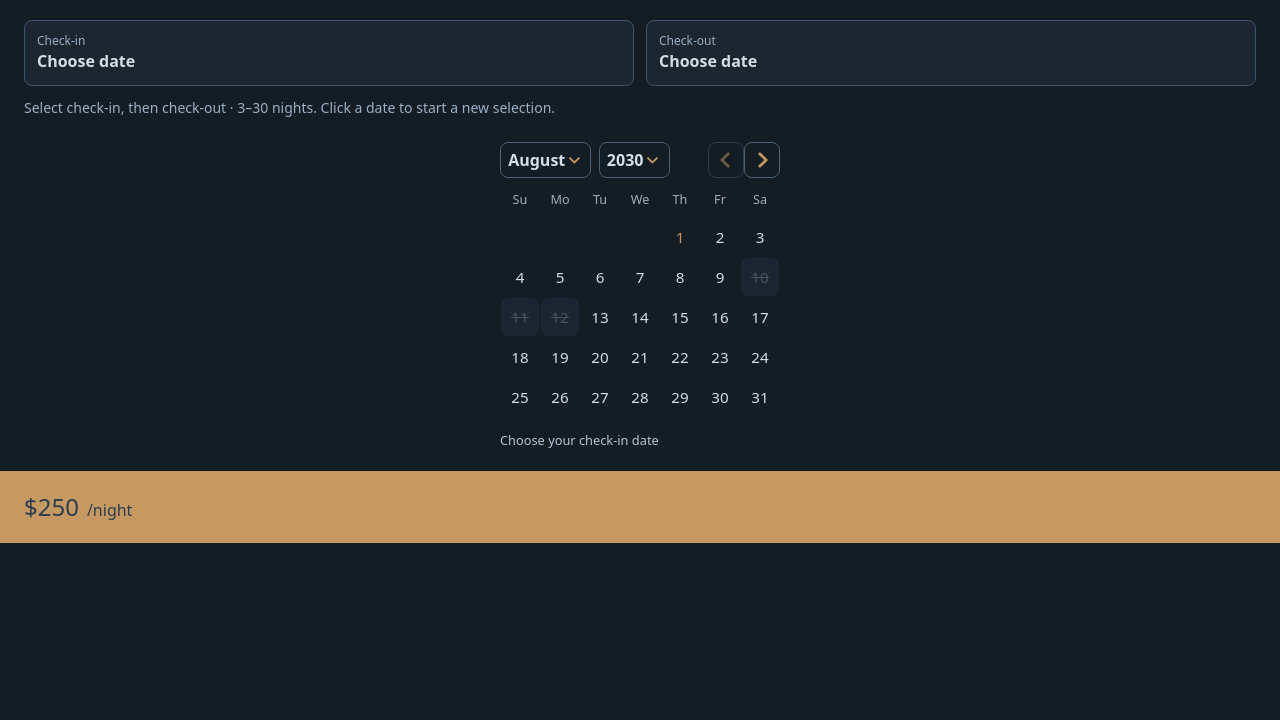
Scenario: actual DayPicker half-open availability › disables booked nights but allows the existing checkout day as a new arrival
Click the button "13". click: (600, 317)
box: left=581, top=298, right=619, bottom=336
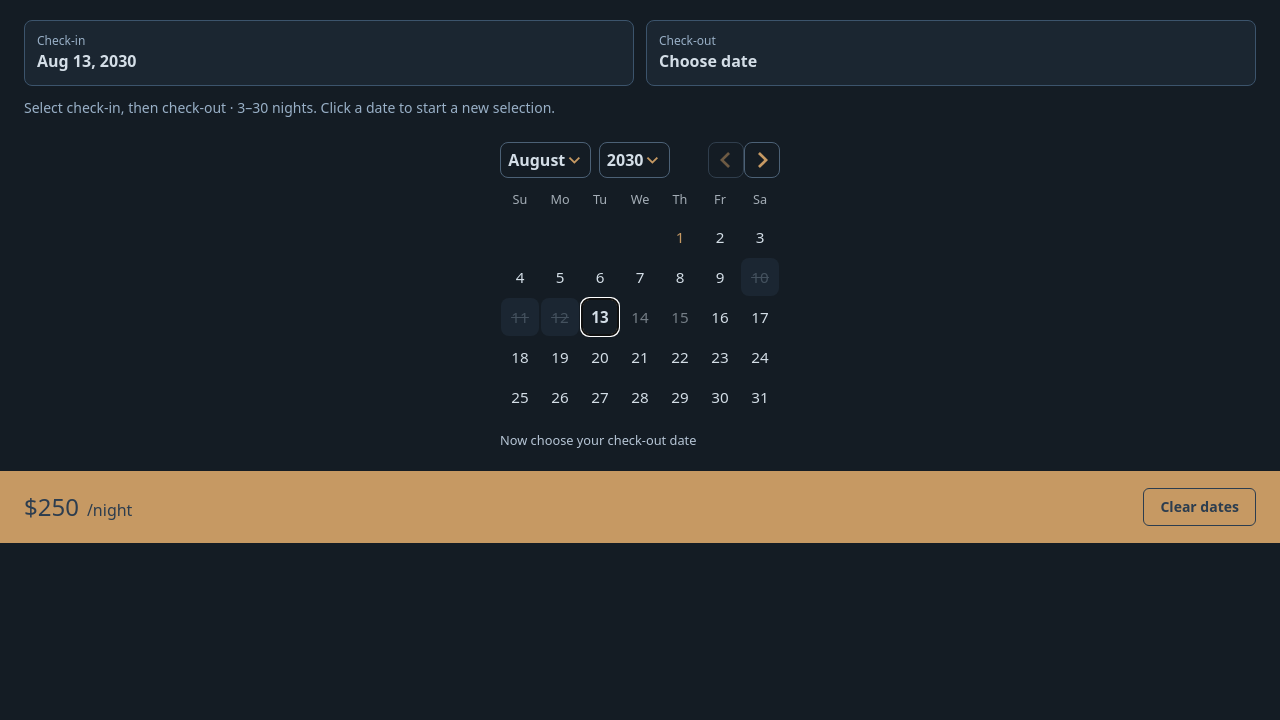
Click the button "16". click: (720, 317)
box: left=701, top=298, right=739, bottom=336
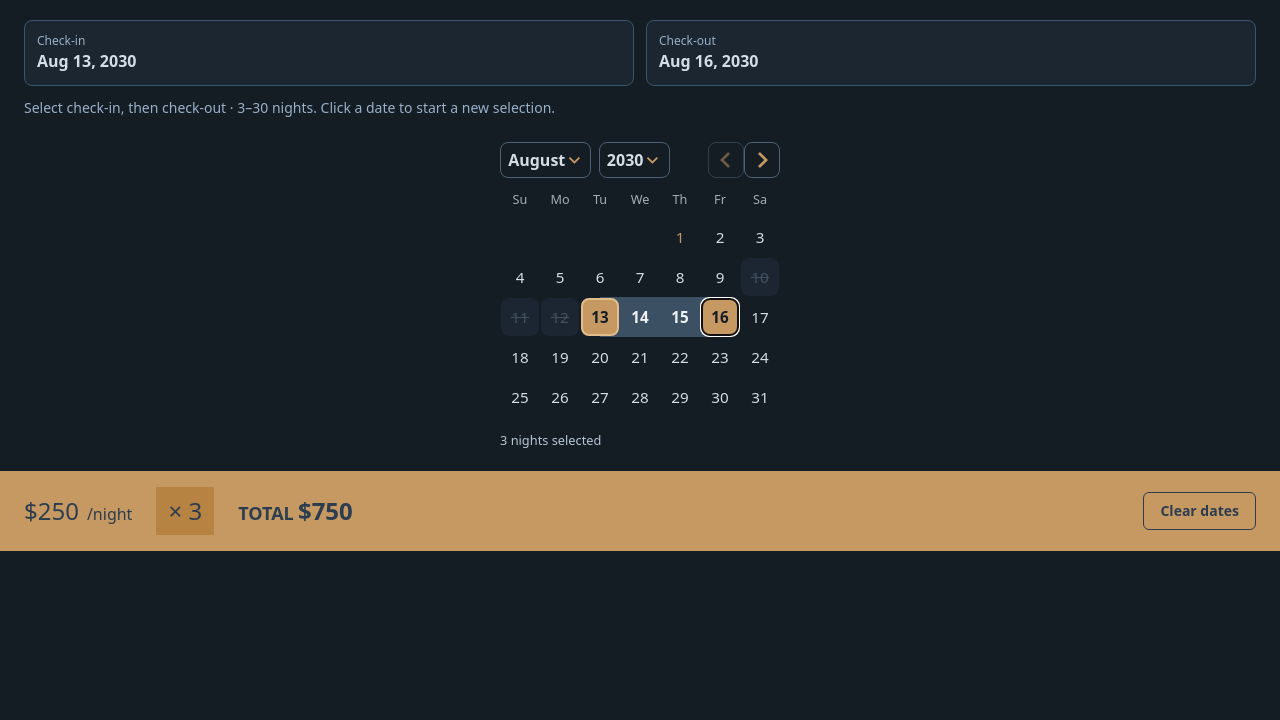
Now the text "Aug 13, 2030" is shown, box left=37, top=50, right=136, bottom=72
Now the text "Aug 16, 2030" is shown, box left=659, top=50, right=758, bottom=72
Now the text "3 nights selected" is shown, box left=500, top=431, right=601, bottom=449
